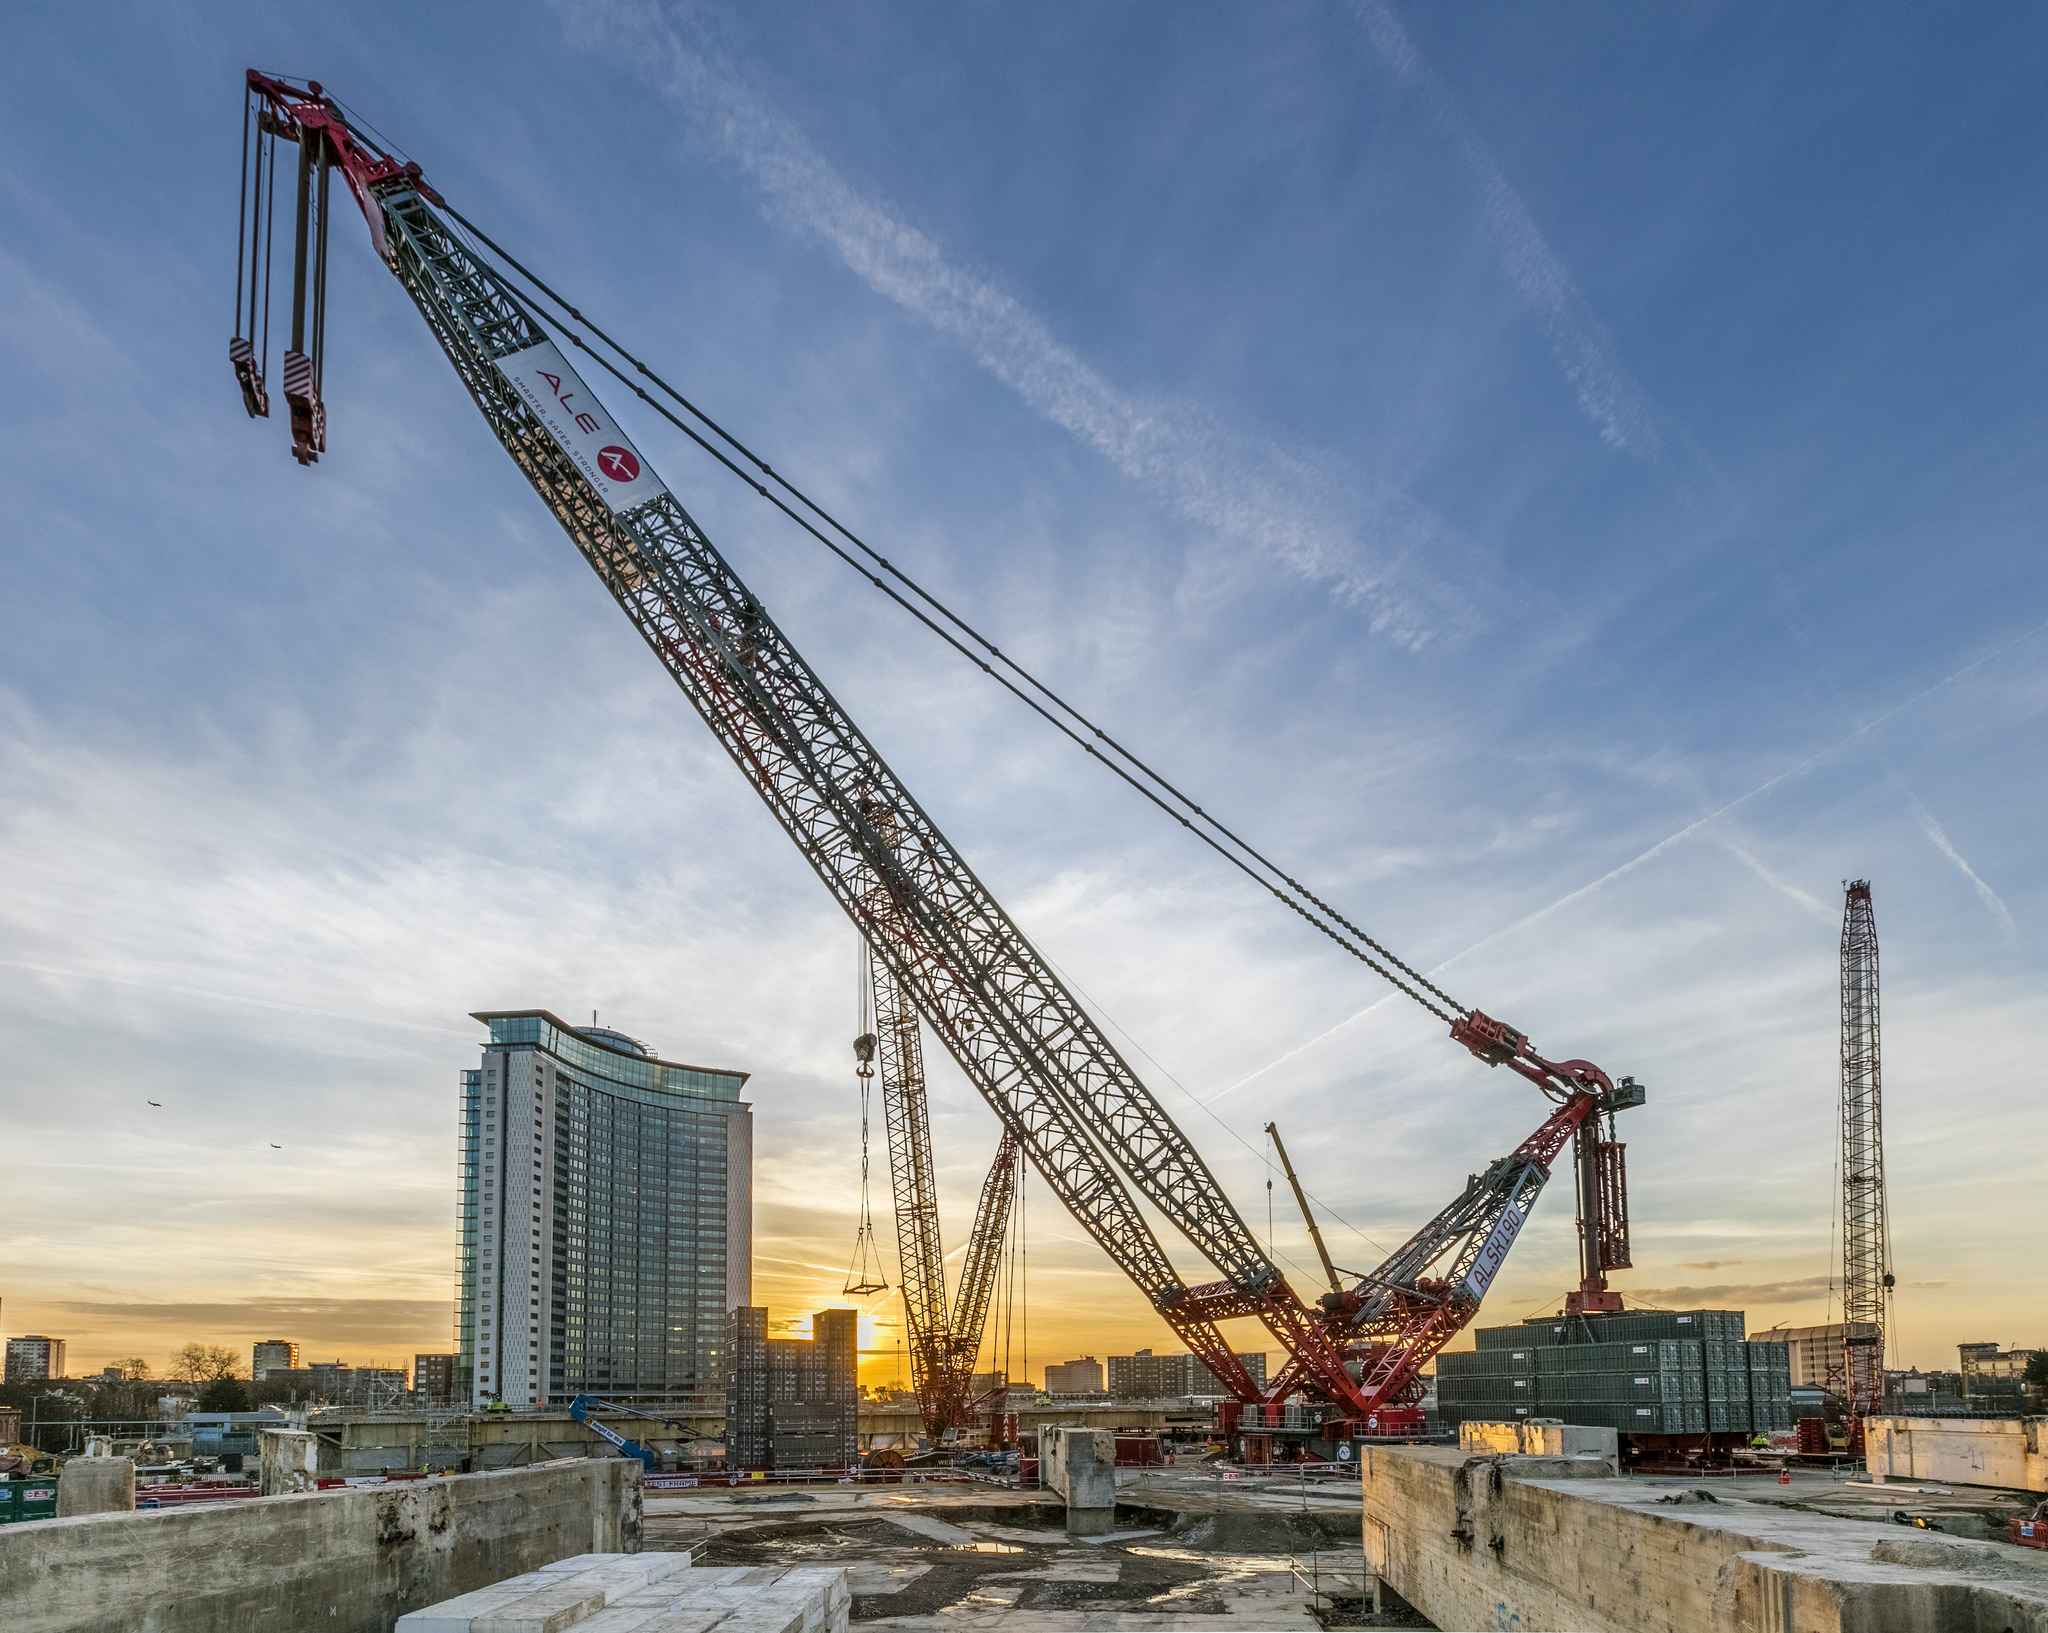crane: (213, 52, 1708, 1496), (823, 798, 1046, 1501)
